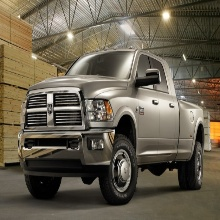no damage: (17, 47, 206, 206)
